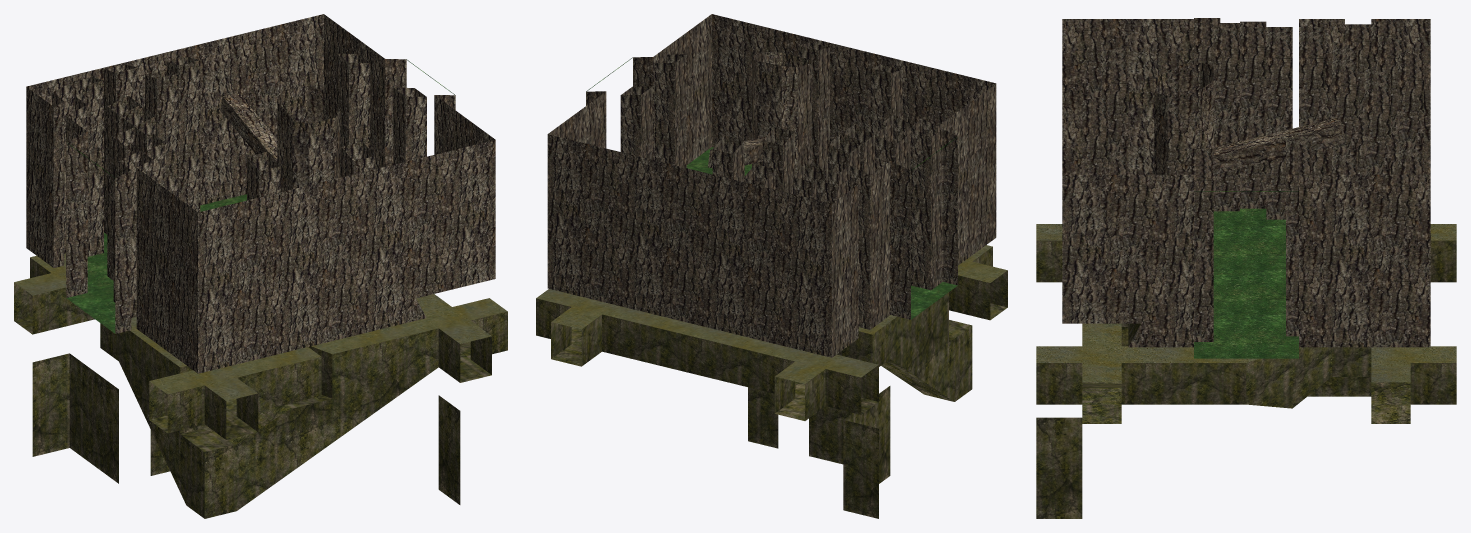
File: woods3cell.gltf
3 views of the same model, side by side, from view 1: azimuth 30°, elevation 25°; view 2: azimuth 150°, elevation 25°; view 3: azimuth 270°, elevation 25° (orthographic). The views are drawn at different scales.
Visible parts, largest first — view 1: woods3cell; view 2: woods3cell; view 3: woods3cell.
Part boxes in pixels (left/top/right/bottom): woods3cell: left=14, top=14, right=507, bottom=518; woods3cell: left=536, top=14, right=1007, bottom=518; woods3cell: left=1036, top=18, right=1456, bottom=518.
Bounding box in the file's own units: 32 × 34.5 × 32.
Materials: 10 (10 with a texture image).
